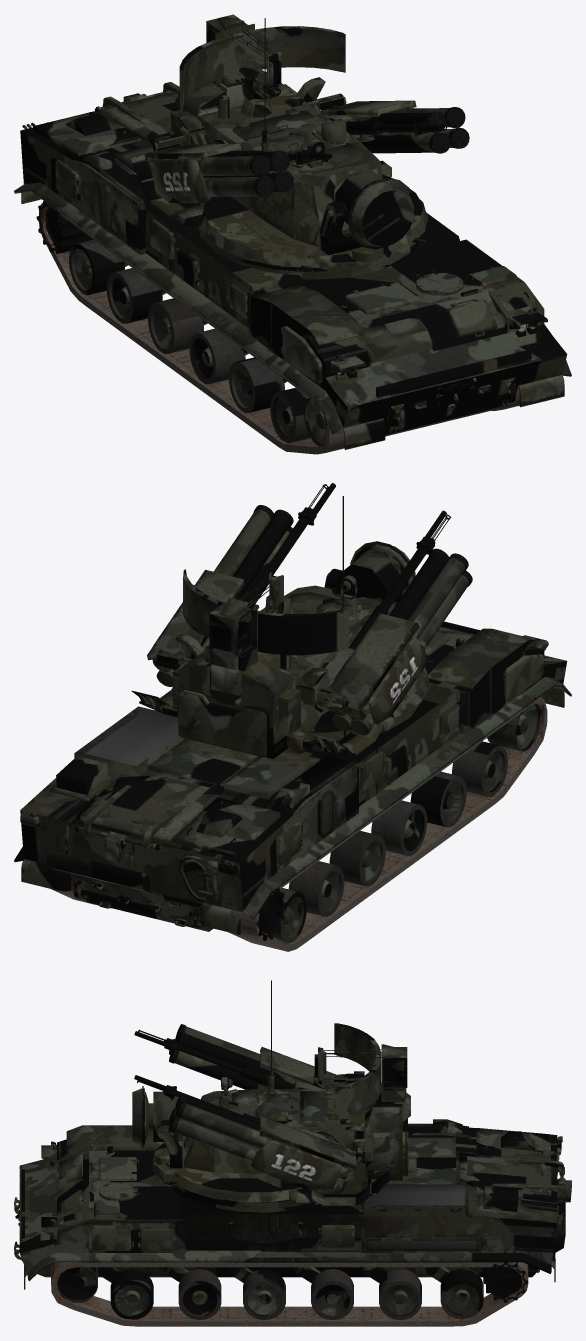
The model's file is tunguska.fbx.
3 views of the same model, one above another, from view 1: azimuth 30°, elevation 25°; view 2: azimuth 150°, elevation 25°; view 3: azimuth 270°, elevation 25° (orthographic). The views are drawn at different scales.
Parts seen in each view (by area): view 1: desirefx.me_002, desirefx.me_003, radar, gun.right, gun.left; view 2: desirefx.me_002, desirefx.me_003, gun.right, radar, gun.left; view 3: desirefx.me_002, desirefx.me_003, gun.left, gun.right, radar.
Boxes of the visible parts, <box> form: desirefx.me_002: <box>14,82,571,454</box>; desirefx.me_003: <box>129,18,429,273</box>; radar: <box>179,14,345,112</box>; gun.right: <box>144,144,332,203</box>; gun.left: <box>320,100,469,153</box>; desirefx.me_002: <box>14,614,571,951</box>; desirefx.me_003: <box>131,496,433,758</box>; gun.right: <box>316,510,472,735</box>; radar: <box>183,569,349,671</box>; gun.left: <box>147,483,335,686</box>; desirefx.me_002: <box>14,1119,571,1326</box>; desirefx.me_003: <box>132,980,410,1205</box>; gun.left: <box>134,1075,356,1194</box>; gun.right: <box>134,1024,344,1089</box>; radar: <box>313,1023,407,1119</box>.
Size of the model in its own units: 29.37 by 41.22 by 72.38.
